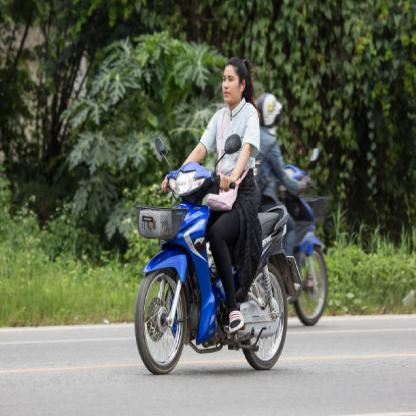Motorcycle: (131, 156, 285, 377)
